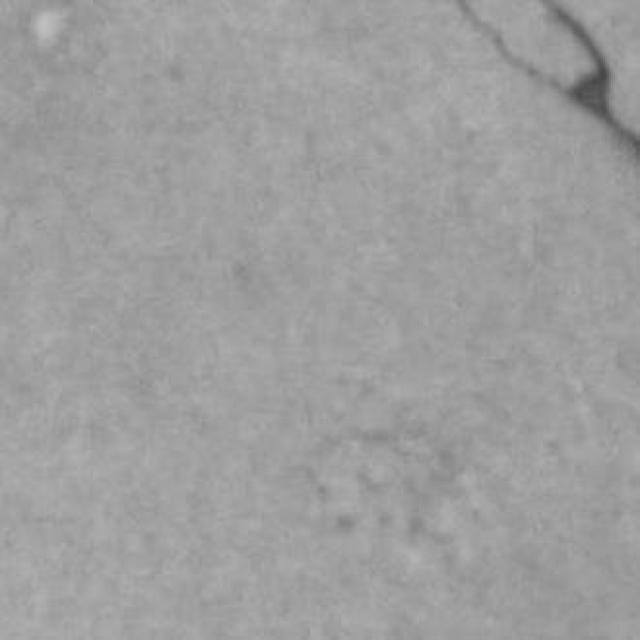crack: (456, 0, 639, 160)
